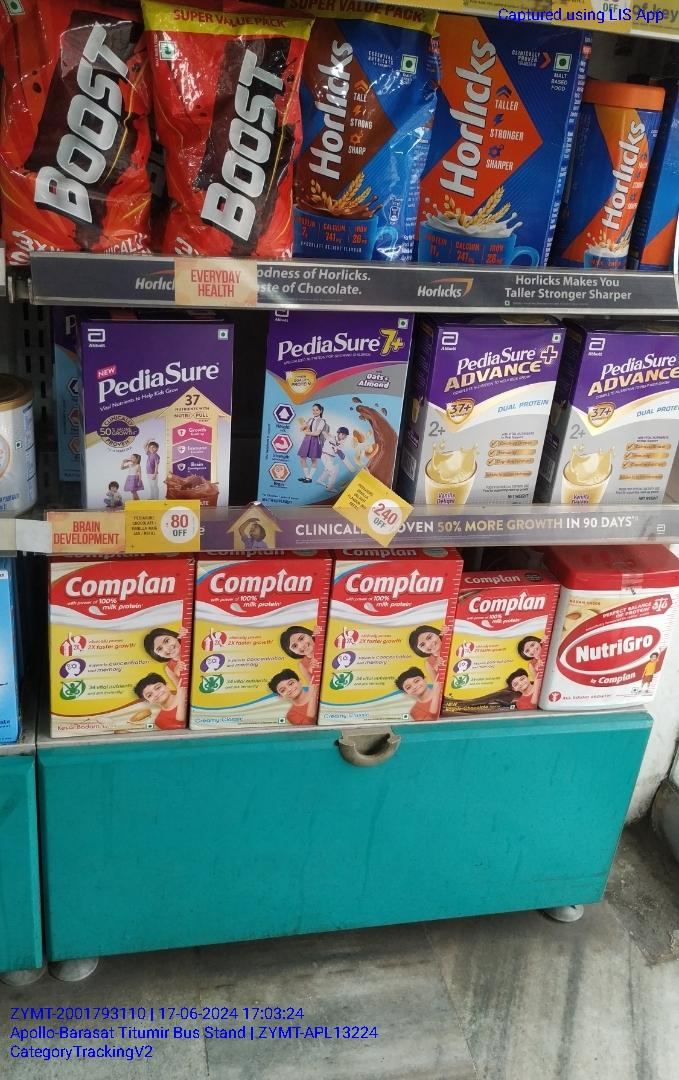COMPLAN_CHOCOLATE_200_GMS_PACK: (450, 587, 549, 712)
COMPLAN_CREAMY_CLASSIC_500_G_PACK: (196, 563, 318, 729), (323, 559, 447, 718)
COMPLAN_KESAR_BADAM_500_GMS_PACK: (53, 563, 188, 735)
HORLICK_CHOCOLATE_750_G_POUCH: (300, 0, 423, 258)
HORLICK_CLASSIC_MALT_500_G_JAR: (574, 73, 655, 274)
PEDIASURE_7_PLUS_CHOCOLATE_400_G_PACK: (262, 311, 404, 500)
PEDIASURE_CHOCOLATE_500_G_PACK: (86, 323, 229, 503)
